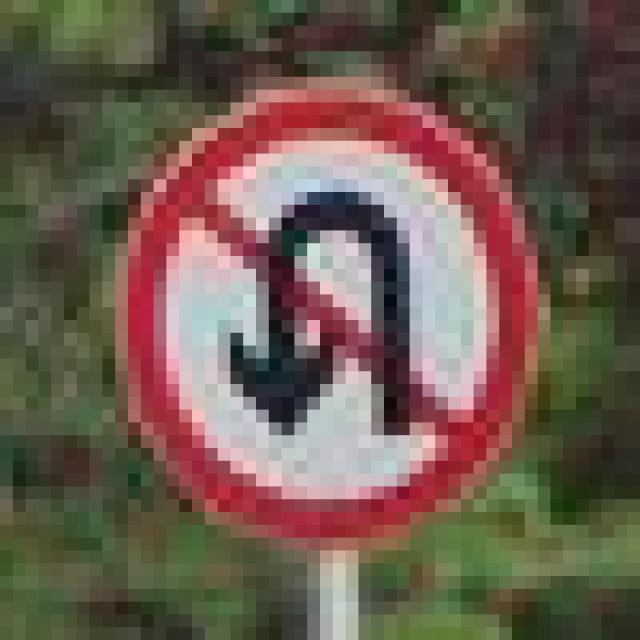u turn prohibited: (92, 68, 541, 542)
